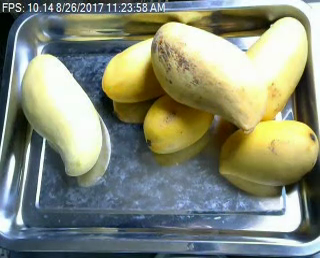Mango: (150, 19, 267, 129), (20, 54, 103, 174), (241, 15, 308, 120), (217, 121, 320, 186), (145, 90, 217, 154), (99, 36, 166, 101)
